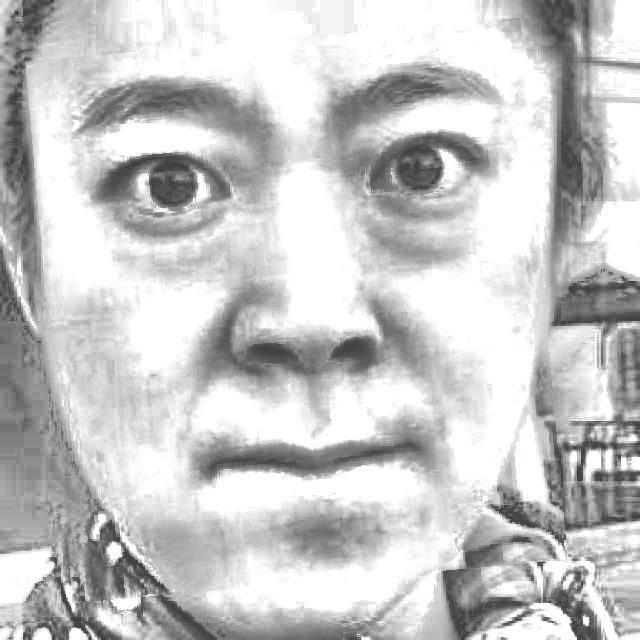angry: (37, 29, 556, 593)
